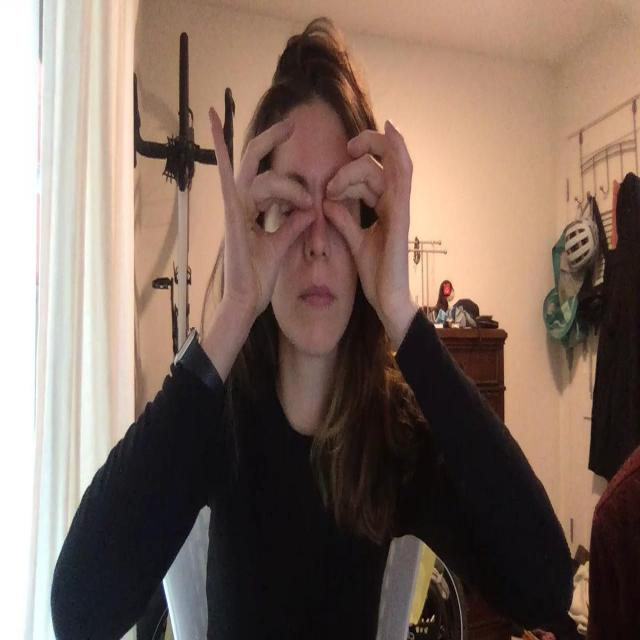face: (264, 122, 362, 359)
